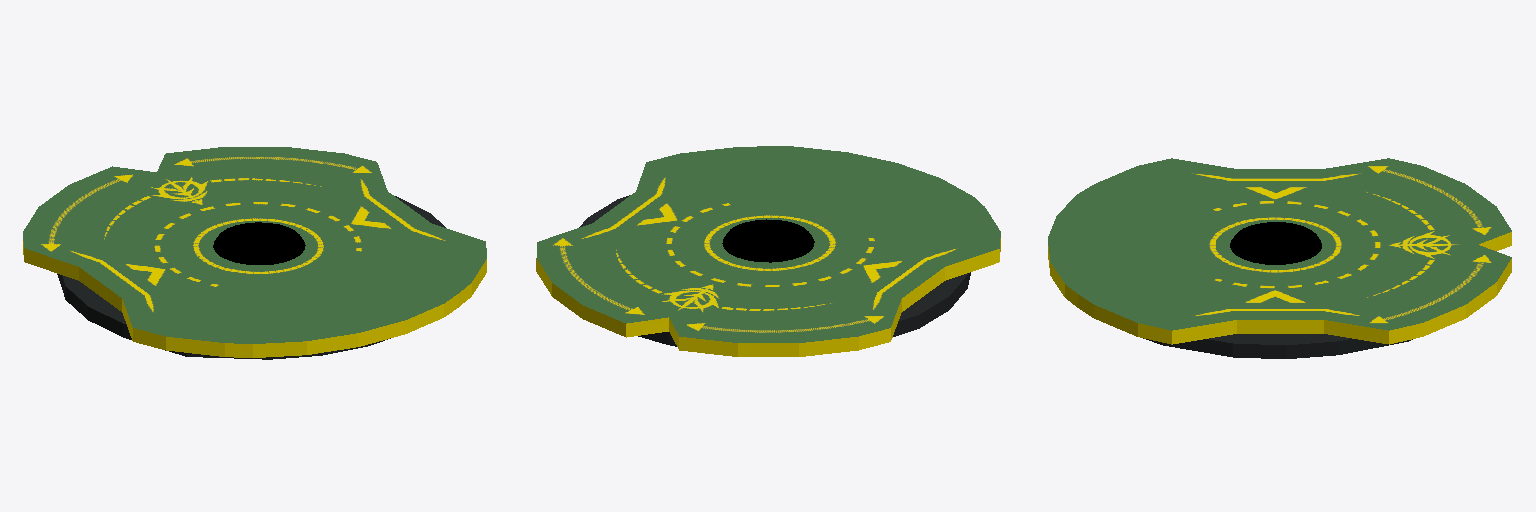
3 renders of one model, left to right at view 1: azimuth 30°, elevation 25°; view 2: azimuth 150°, elevation 25°; view 3: azimuth 270°, elevation 25°, orthographic.
Parts seen in each view (by area): view 1: SketchUp_ID3; view 2: SketchUp_ID3; view 3: SketchUp_ID3.
Boxes of the visible parts, <box> form: SketchUp_ID3: <box>23,147,486,359</box>; SketchUp_ID3: <box>536,146,1000,356</box>; SketchUp_ID3: <box>1048,158,1511,358</box>.
Size of the model in its own units: 2.66 by 0.24 by 3.02.
1 materials, 1 textured.